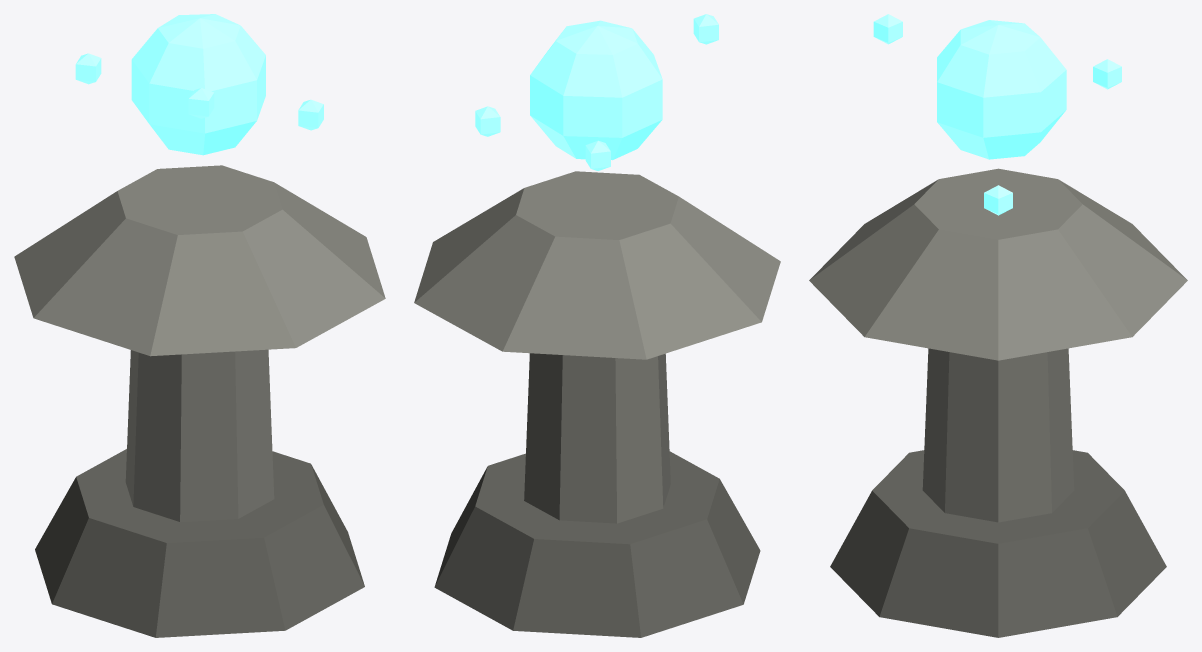
The model's file is night_soulfire_pedestal.glb.
3 renders of one model, left to right at view 1: azimuth 30°, elevation 25°; view 2: azimuth 150°, elevation 25°; view 3: azimuth 270°, elevation 25°, orthographic.
Parts seen in each view (by area): view 1: night_soulfire_pedestal; view 2: night_soulfire_pedestal; view 3: night_soulfire_pedestal.
Part boxes in pixels (<box>): night_soulfire_pedestal: <box>14,14,385,637</box>; night_soulfire_pedestal: <box>414,14,780,637</box>; night_soulfire_pedestal: <box>809,14,1187,637</box>.
Bounding box in the file's own units: 0.9 × 1.42 × 0.9.
